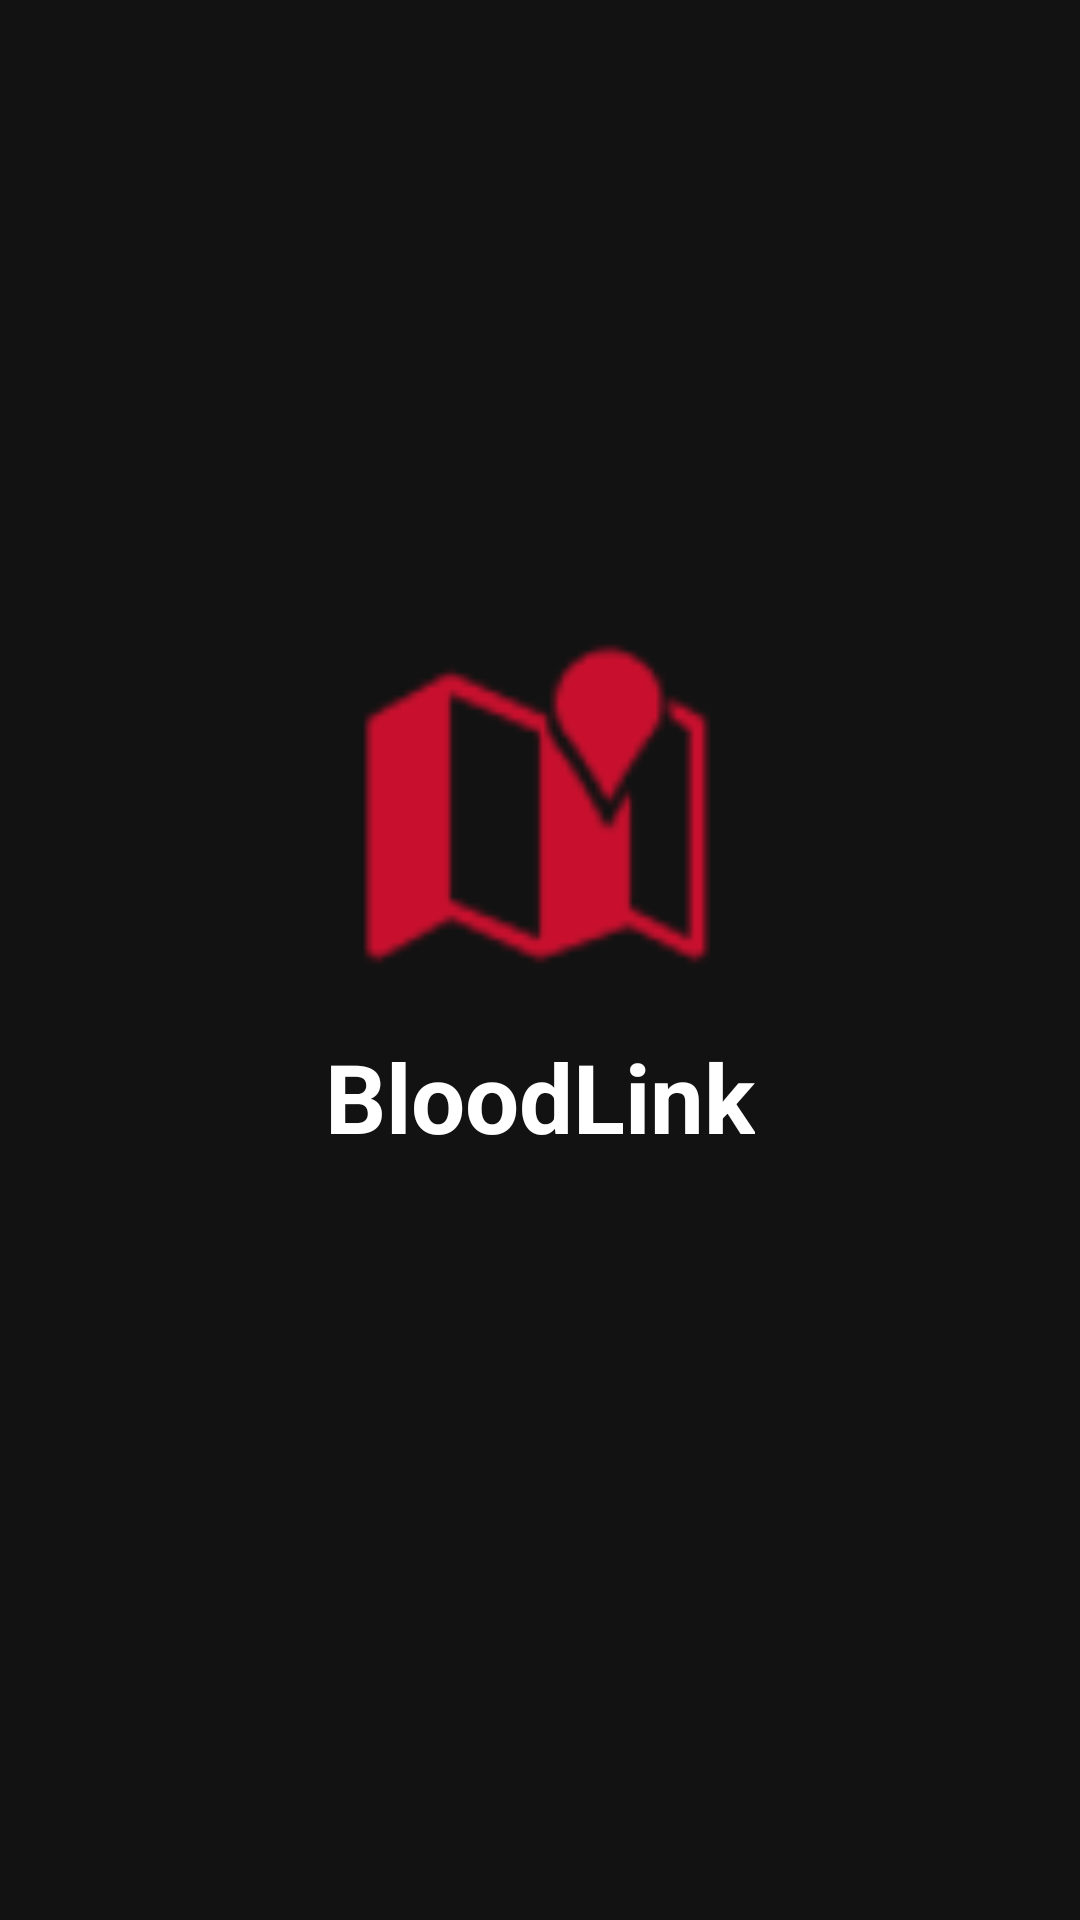

Named icons in this screenshot (1080 x 1920) and their bounding boxes, (x1, y1, x2, y2):
map: (364, 645, 709, 963)
